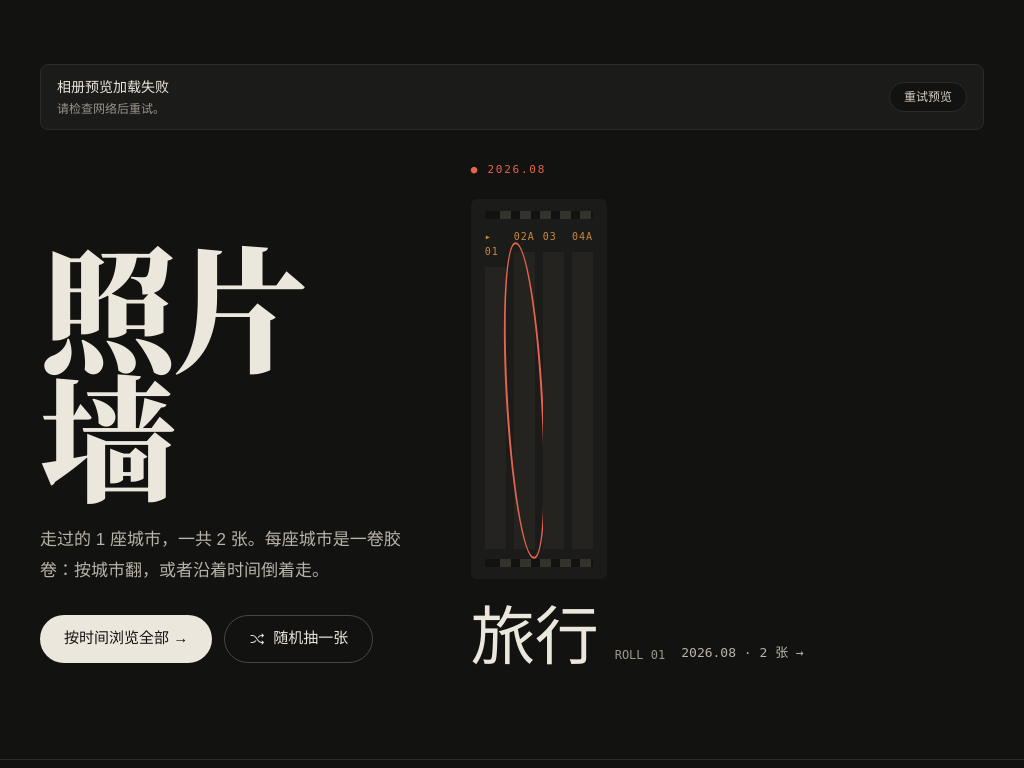
Test case: photo overview recovery › retries failed previews without losing loaded photos (all failed: false)
The width and height of the screenshot is (1024, 768).
Expected: the message "相册预览加载失败 请检查网络后重试。 重试预览" is shown, [40,64,984,130]
What coordinates should you click on to do the following:
click the button "重试预览"
I would click on:
 (928, 97)
Its box is [889,82,967,112].
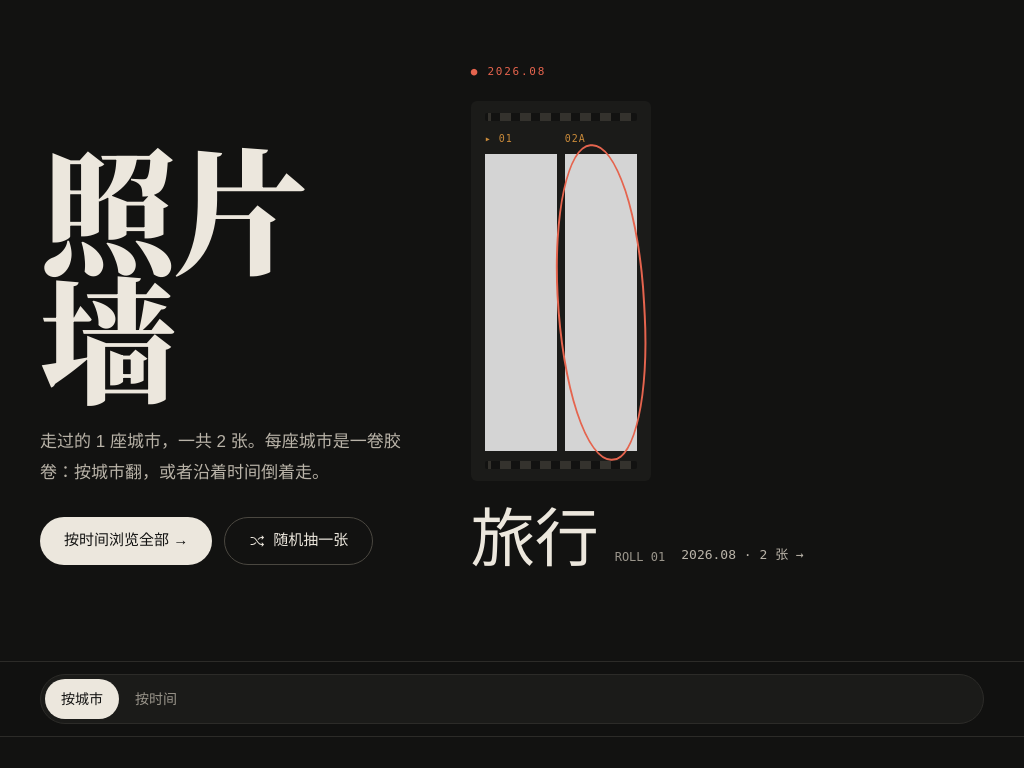
Result: the message "相册预览加载失败 请检查网络后重试。 重试预览" is gone
